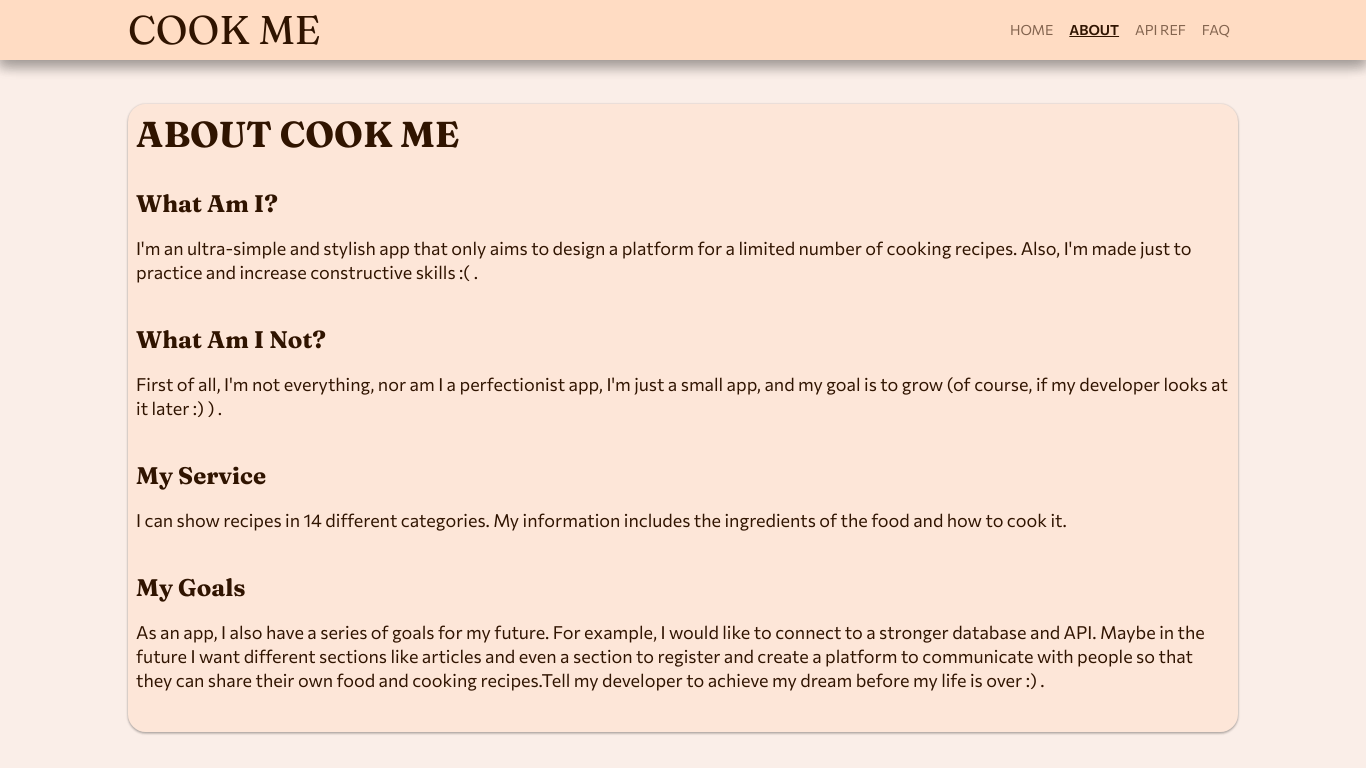
Test: Navigation › go to Api Ref
Click the link to "/apiRef" at (1161, 30), box top-left (1127, 20), bottom-right (1194, 40)
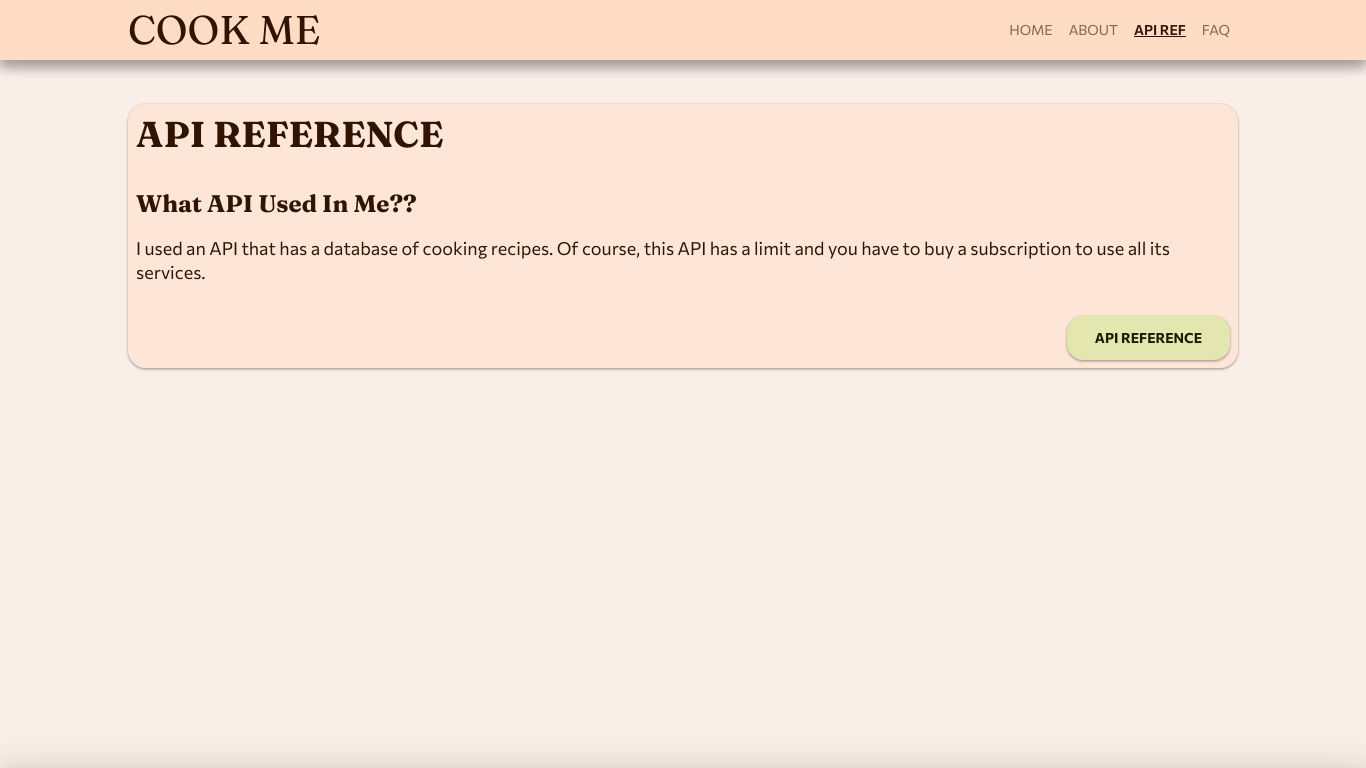
Expected: the element with class "rare_data_con" is shown, top-left (128, 104), bottom-right (1238, 368)
Result: the text with class "rare_data_con" reads "API REFERENCE" at top-left (136, 112), bottom-right (443, 156)
